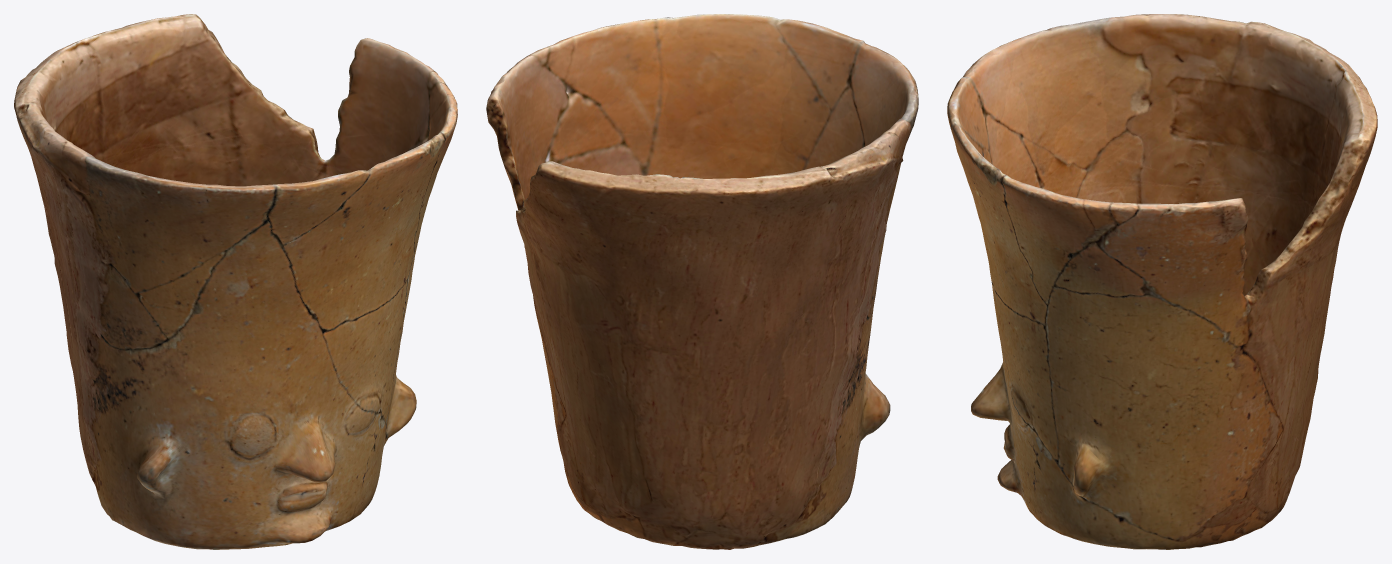
The model's file is Vaso.FBX.
The picture shows the model from 3 angles, left to right: view 1: azimuth 30°, elevation 25°; view 2: azimuth 150°, elevation 25°; view 3: azimuth 270°, elevation 25°; orthographic projection.
Visible parts, largest first — view 1: default; view 2: default; view 3: default.
Boxes of the visible parts, x1,y1,x2,y2 form: default: (14, 14, 457, 549); default: (486, 14, 918, 549); default: (947, 14, 1377, 549).
Size of the model in its own units: 17.38 by 17.7 by 17.05.
